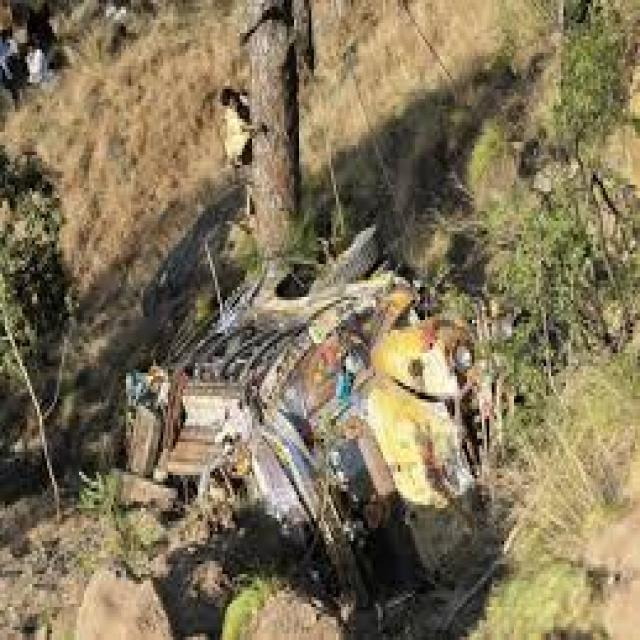accident: (55, 223, 589, 612)
